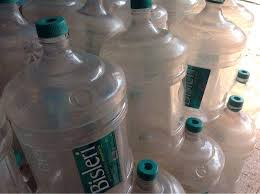Bisleri: (121, 13, 183, 176), (74, 152, 121, 184), (188, 62, 210, 111)
plastic: (40, 42, 127, 191)
